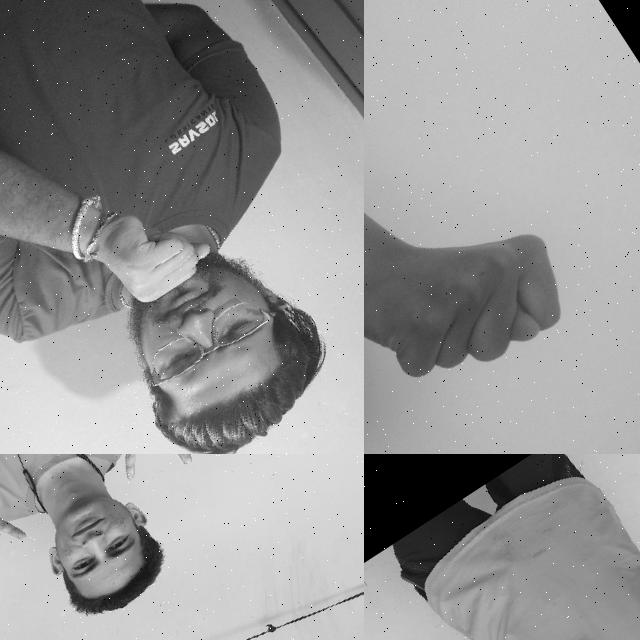Corna: (0, 464, 47, 602), (81, 454, 209, 503)
Dulya: (364, 150, 593, 438)
Fist Mouth: (33, 146, 346, 454)
